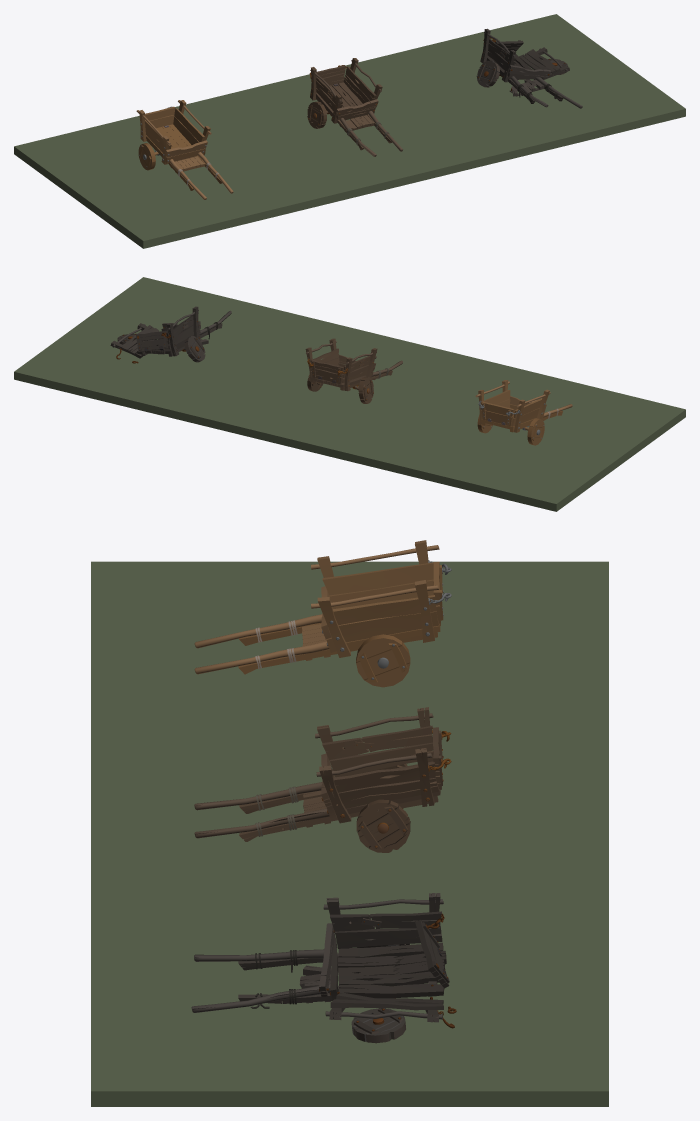
File: HW 07 - destructions_10.fbx
3 renders of one model, top to bottom at view 1: azimuth 30°, elevation 25°; view 2: azimuth 150°, elevation 25°; view 3: azimuth 270°, elevation 25°, orthographic. The views are drawn at different scales.
Visible parts, largest first — view 1: ground, Cube.008, Cube.033, Plane.006, Plane.012, Circle.212, Cube.026, Cube.029, Circle.071, Plane.016, Circle.128, Cube.017 (+1 smaller); view 2: ground, Cube.029, Cube.017, Cube.021, Circle.128, Cube.026, Circle.212, Cube.004, Cube.028; view 3: ground, Cube.004, Cube.028, Cube.033, Cube.008, Circle.128, Circle.002, Cube.026, Plane.016, Plane.005, Cube.014, Cube.038 (+12 smaller).
Boxes of the visible parts, x1,y1,x2,y2 form: ground: (14, 14, 685, 248); Cube.008: (343, 66, 376, 103); Cube.033: (173, 108, 204, 144); Plane.006: (316, 82, 362, 120); Plane.012: (146, 124, 191, 156); Circle.212: (476, 60, 499, 87); Cube.026: (139, 100, 210, 164); Cube.029: (145, 106, 175, 128); Circle.071: (307, 101, 326, 128); Plane.016: (169, 152, 233, 199); Circle.128: (138, 143, 205, 170); Cube.017: (316, 65, 345, 85); ground: (14, 277, 685, 511); Cube.029: (481, 401, 514, 425); Cube.017: (311, 359, 343, 384); Cube.021: (135, 330, 168, 351); Circle.128: (477, 414, 544, 445); Cube.026: (478, 380, 549, 432); Circle.212: (184, 336, 205, 362); Cube.004: (342, 356, 370, 382); Cube.028: (511, 398, 542, 426); ground: (91, 561, 608, 1106); Cube.004: (322, 725, 433, 777); Cube.028: (322, 562, 433, 608); Cube.033: (333, 595, 439, 642); Cube.008: (333, 762, 439, 808); Circle.128: (356, 634, 410, 687); Circle.002: (356, 799, 410, 852); Cube.026: (317, 540, 434, 657); Plane.016: (194, 614, 329, 674); Plane.005: (194, 782, 329, 838); Cube.014: (330, 911, 441, 931); Cube.038: (335, 926, 442, 948).
Bounding box in the file's own units: 800 × 81.98 × 331.
